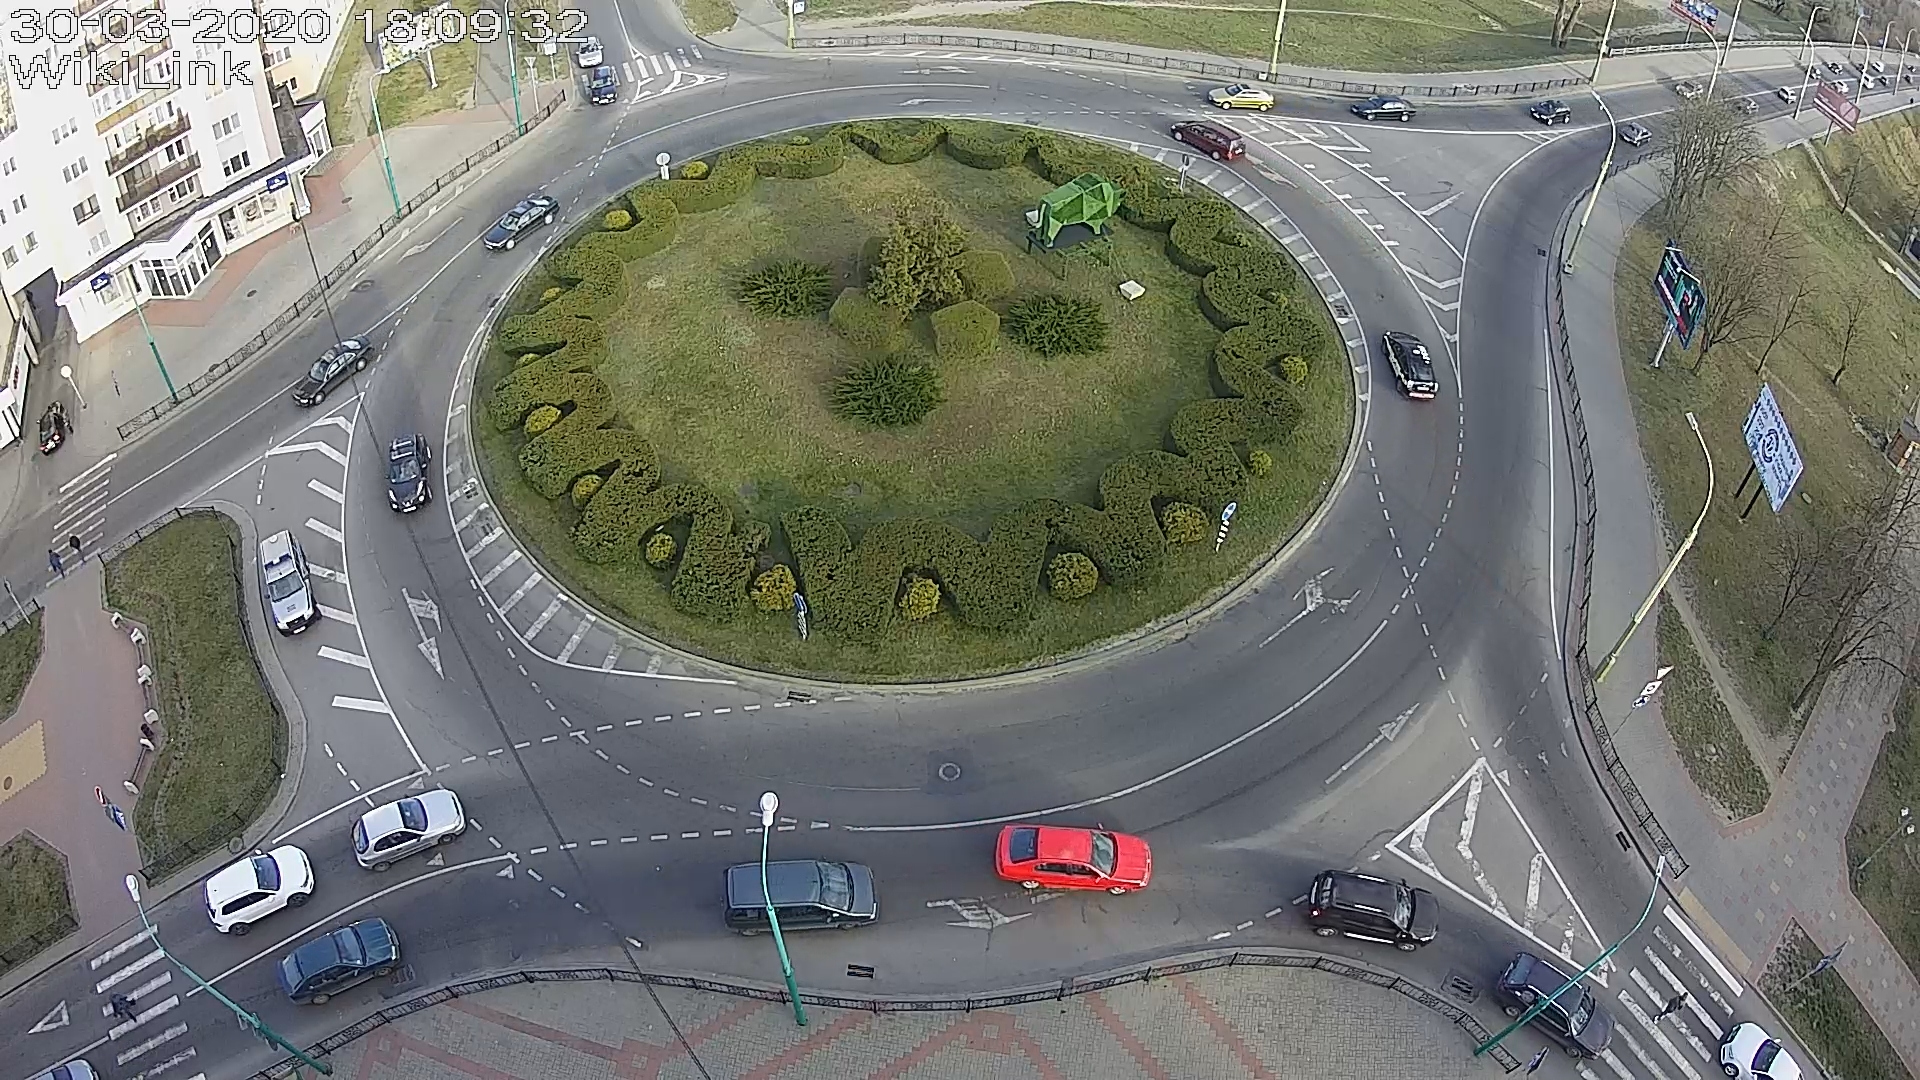car: (1495, 951, 1615, 1062), (721, 855, 881, 938), (994, 822, 1153, 895), (276, 916, 402, 1006), (1308, 869, 1440, 952), (203, 844, 315, 936), (351, 789, 465, 873), (258, 529, 322, 638), (291, 334, 375, 407), (483, 196, 560, 252), (1381, 331, 1440, 402), (384, 433, 433, 514), (1170, 120, 1246, 164), (1207, 83, 1275, 112), (1350, 95, 1418, 123), (591, 66, 618, 105), (1530, 100, 1571, 127), (1618, 123, 1654, 146), (578, 37, 603, 69)
